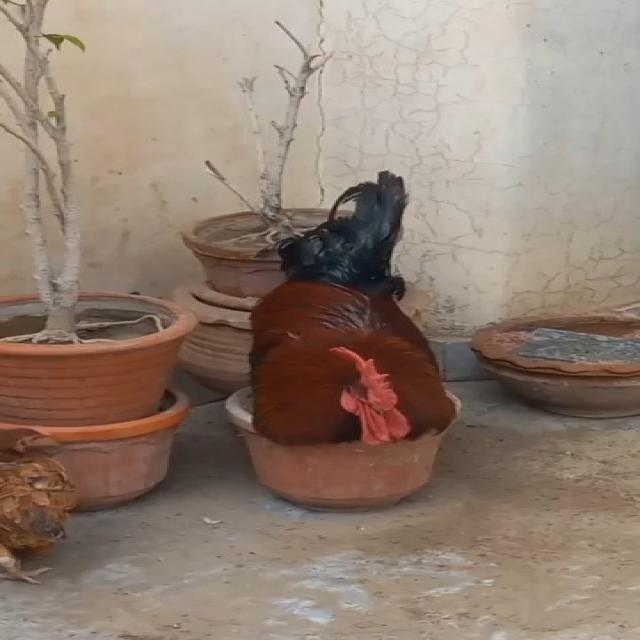stand bath: (234, 142, 458, 456)
